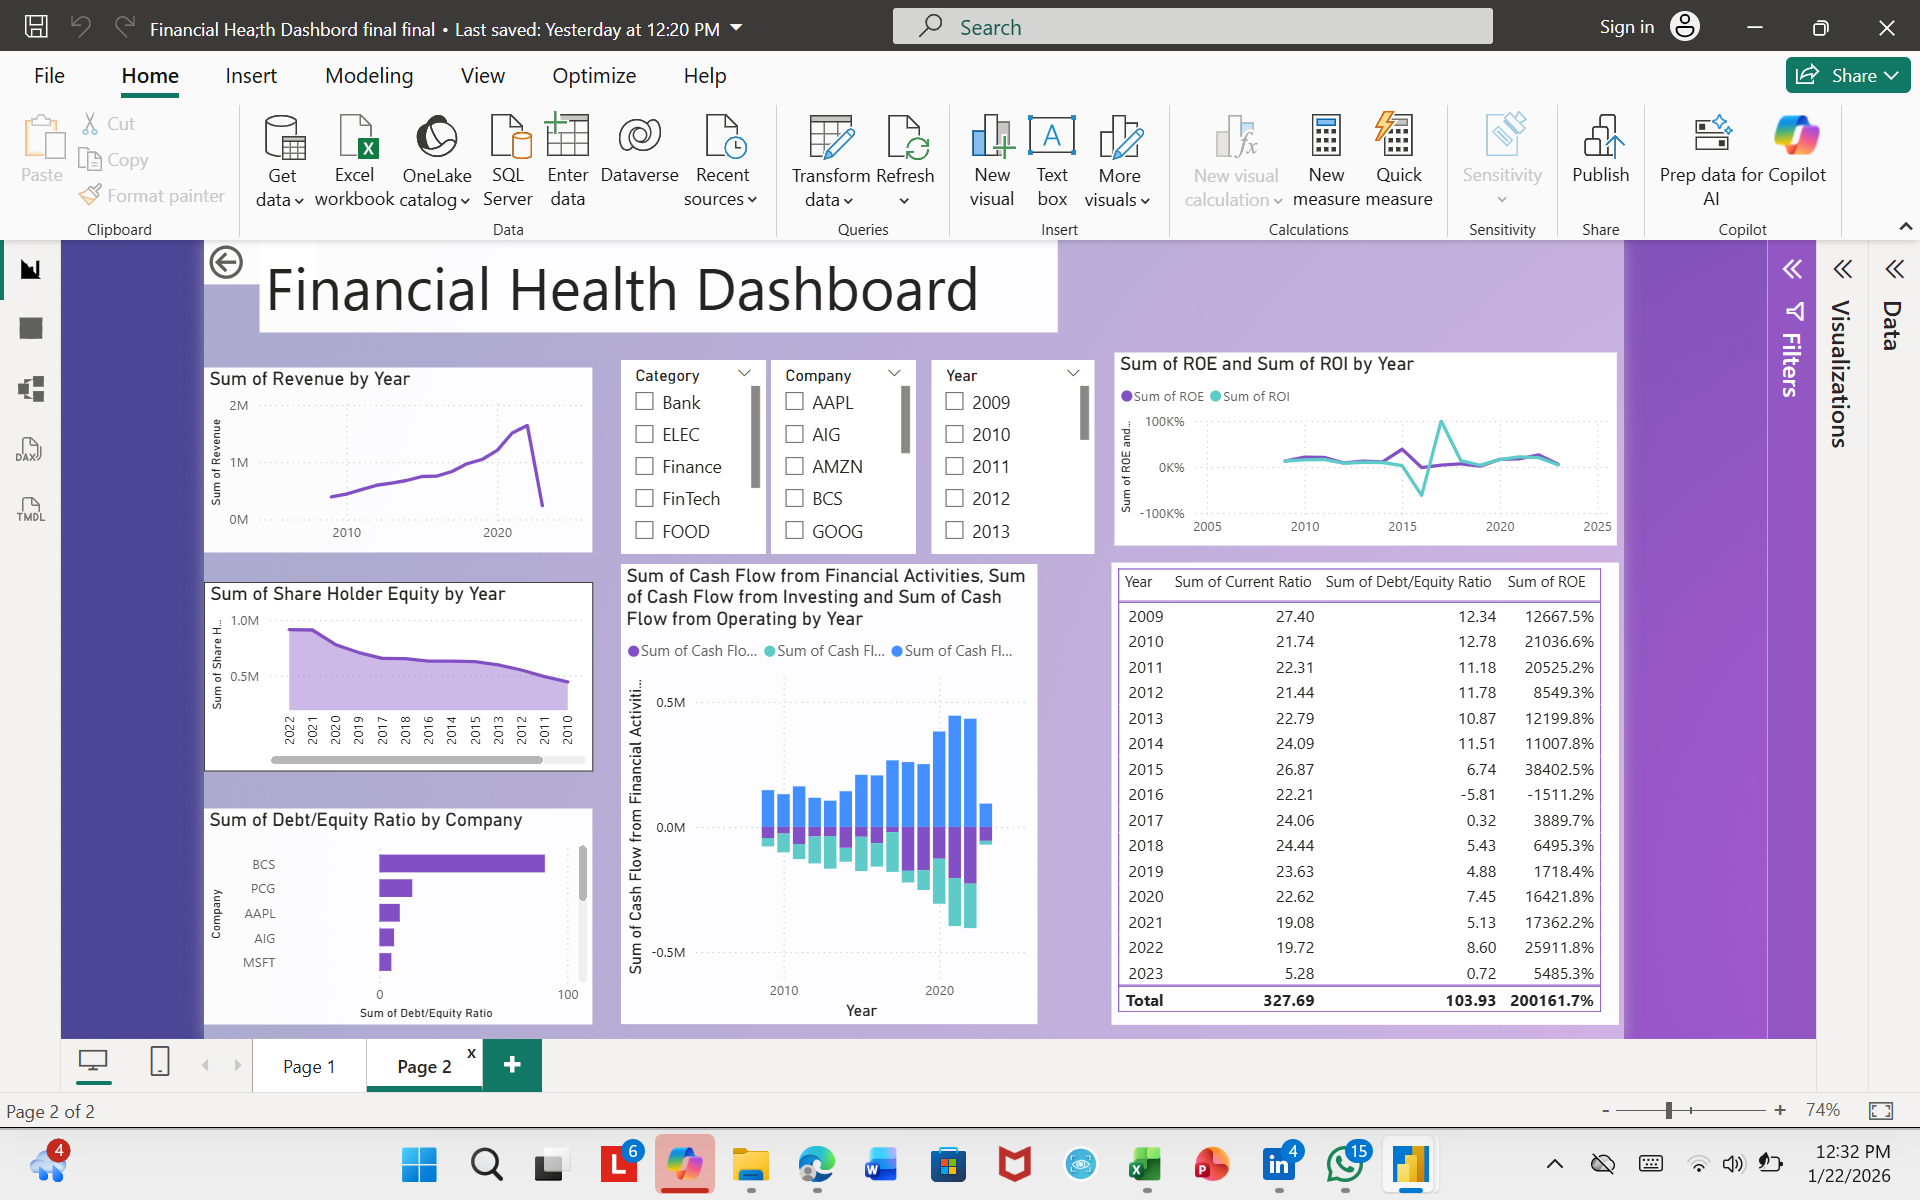

Layout of this report page (visuals, bound fields, positions):
{"tool":"powerbi","page":{"name":"Page 2","canvas":[1280,720],"ordinal":1},"visuals":[{"type":"slicer","fields":{"Values":["Financial Statements.Year"]},"box":[655.7,107.5,146.9,174.1],"z":0},{"type":"slicer","fields":{"Values":["Financial Statements.Company"]},"box":[510.3,107.5,130.2,174.1],"z":1000},{"type":"clusteredBarChart","fields":{"Y":["Financial StatementsFinancial Statements.Debt/Equity Ratio"],"Category":["Financial StatementsFinancial Statements.Company"]},"box":[0,512.3,350.1,194.6],"z":2000},{"type":"areaChart","fields":{"Y":["Financial StatementsFinancial Statements.Share Holder Equity"],"Category":["Financial StatementsFinancial Statements.Year"]},"box":[0,307.9,350.5,170.5],"z":3000},{"type":"actionButton","box":[0,0,100,40],"z":4000},{"type":"columnChart","fields":{"Category":["Financial StatementsFinancial Statements.Year"],"Y":["Financial StatementsFinancial Statements.Cash Flow from Financial Activities","Financial StatementsFinancial Statements.Cash Flow from Investing","Financial StatementsFinancial Statements.Cash Flow from Operating"]},"box":[375.5,292.2,375.5,414.9],"z":5000},{"type":"textbox","box":[50,0,719.2,83.3],"z":6000},{"type":"tableEx","fields":{"Values":["Financial StatementsFinancial Statements.Year","Financial StatementsFinancial Statements.Current Ratio","Financial StatementsFinancial Statements.Debt/Equity Ratio","Financial StatementsFinancial Statements.ROE"]},"box":[817.7,290.7,457.3,416.4],"z":7000},{"type":"slicer","fields":{"Values":["SME\\_Financial\\_Master.Category"]},"box":[375.5,107.5,130.2,174.1],"z":8000},{"type":"lineChart","fields":{"Category":["Financial StatementsFinancial Statements.Year"],"Y":["Financial StatementsFinancial Statements.ROE","Financial StatementsFinancial Statements.ROI"]},"box":[820.7,101.5,452.7,174.1],"z":9000},{"type":"lineChart","fields":{"Category":["Financial StatementsFinancial Statements.Year"],"Y":["Financial StatementsFinancial Statements.Revenue"]},"box":[0,115.1,349.8,166.6],"z":10000}]}

Visuals, with their boxes on the page's 1280x720 design canvas (x1, y1, x2, y2). These are canvas units, not pixel positions in the 1920x1200 screenshot, which may show the page scaled, cropped or inside an application window:
slicer - Financial Statements.Year: {"x1": 656, "y1": 108, "x2": 803, "y2": 282}
slicer - Financial Statements.Company: {"x1": 510, "y1": 108, "x2": 640, "y2": 282}
clusteredBarChart - Financial StatementsFinancial Statements.Debt/Equity Ratio x Financial StatementsFinancial Statements.Company: {"x1": 0, "y1": 512, "x2": 350, "y2": 707}
areaChart - Financial StatementsFinancial Statements.Share Holder Equity x Financial StatementsFinancial Statements.Year: {"x1": 0, "y1": 308, "x2": 350, "y2": 478}
actionButton: {"x1": 0, "y1": 0, "x2": 100, "y2": 40}
columnChart - Financial StatementsFinancial Statements.Year x Financial StatementsFinancial Statements.Cash Flow from Financial Activities: {"x1": 376, "y1": 292, "x2": 751, "y2": 707}
textbox: {"x1": 50, "y1": 0, "x2": 769, "y2": 83}
tableEx - Financial StatementsFinancial Statements.Year x Financial StatementsFinancial Statements.Current Ratio: {"x1": 818, "y1": 291, "x2": 1275, "y2": 707}
slicer - SME\_Financial\_Master.Category: {"x1": 376, "y1": 108, "x2": 506, "y2": 282}
lineChart - Financial StatementsFinancial Statements.Year x Financial StatementsFinancial Statements.ROE: {"x1": 821, "y1": 102, "x2": 1273, "y2": 276}
lineChart - Financial StatementsFinancial Statements.Year x Financial StatementsFinancial Statements.Revenue: {"x1": 0, "y1": 115, "x2": 350, "y2": 282}
